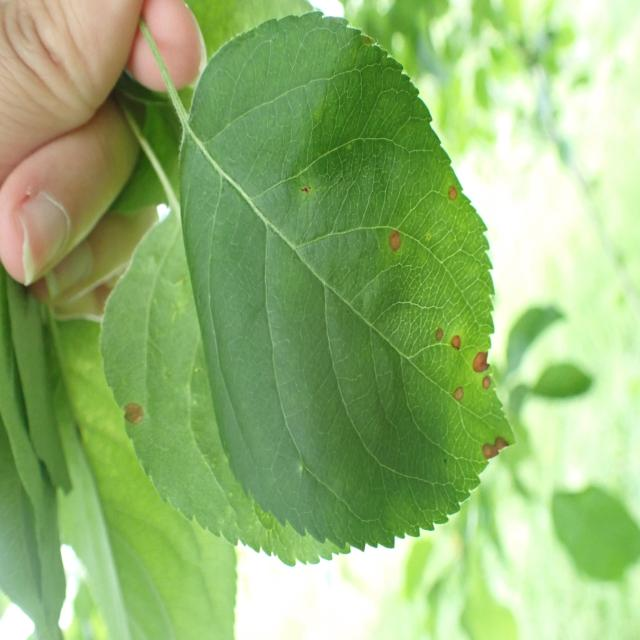Black Rot: (120, 381, 158, 457), (463, 333, 503, 405), (424, 307, 464, 367), (472, 423, 514, 479), (382, 213, 408, 267), (435, 172, 469, 210), (444, 380, 476, 418)
